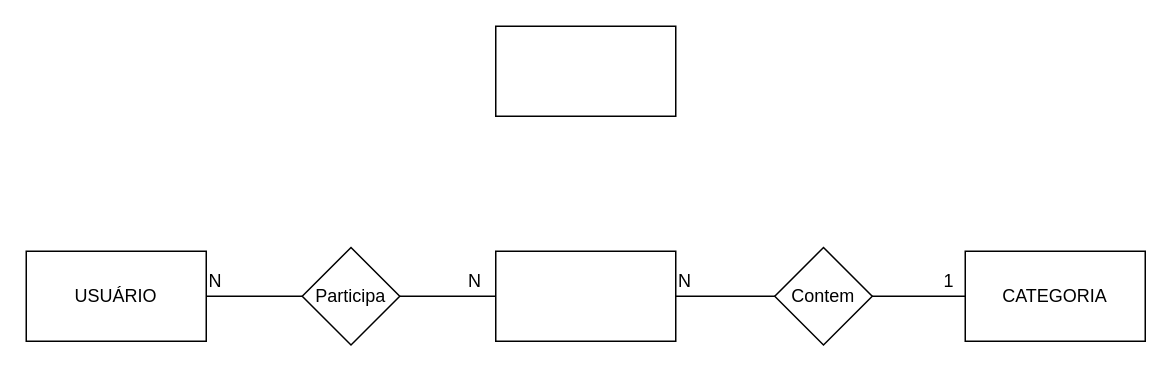
Image size: 1172x372. Some labels were removed from this diagram. Here are the shapes that lost their labels. From the top down, the centre of each, then its label:
pixel 585 70: CONCEITUAL
pixel 585 295: EVENTOS
